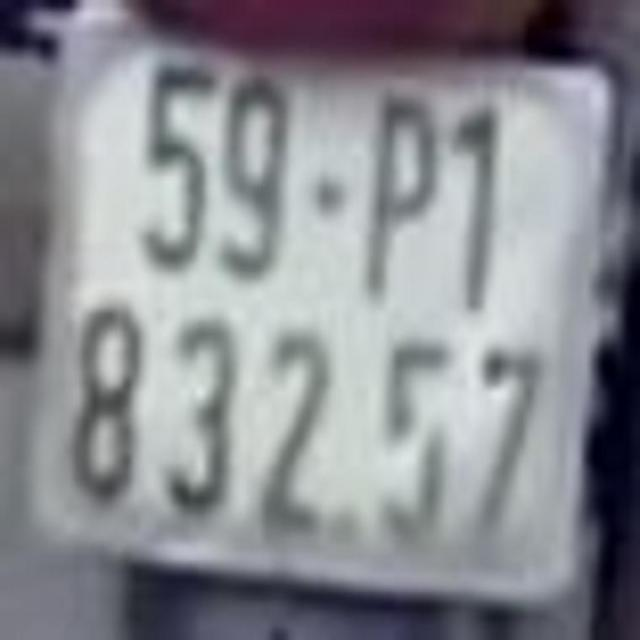1: (449, 104, 503, 312)
2: (255, 343, 324, 523)
3: (165, 320, 236, 506)
5: (380, 338, 448, 527), (146, 68, 209, 263)
7: (460, 328, 543, 539)
8: (77, 306, 139, 496)
9: (216, 74, 284, 274)
P: (360, 88, 436, 299)
